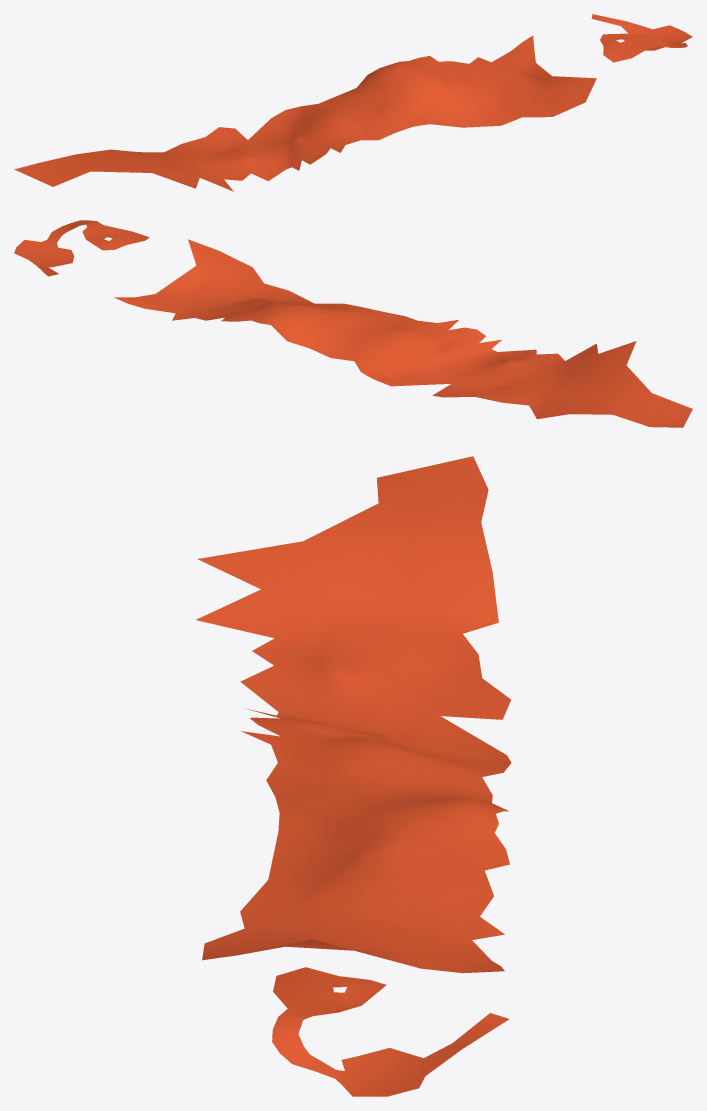
File: cluster_19.fbx
3 views of the same model, one above another, from view 1: azimuth 30°, elevation 25°; view 2: azimuth 150°, elevation 25°; view 3: azimuth 270°, elevation 25° (orthographic). The views are drawn at different scales.
Visible parts, largest first — view 1: cluster_19; view 2: cluster_19; view 3: cluster_19.
Boxes of the visible parts, left/top/right/bottom form: cluster_19: left=14, top=14, right=692, bottom=191; cluster_19: left=14, top=220, right=692, bottom=427; cluster_19: left=196, top=456, right=511, bottom=1096.
Size of the model in its own units: 902773 by 45506 by 190488.
